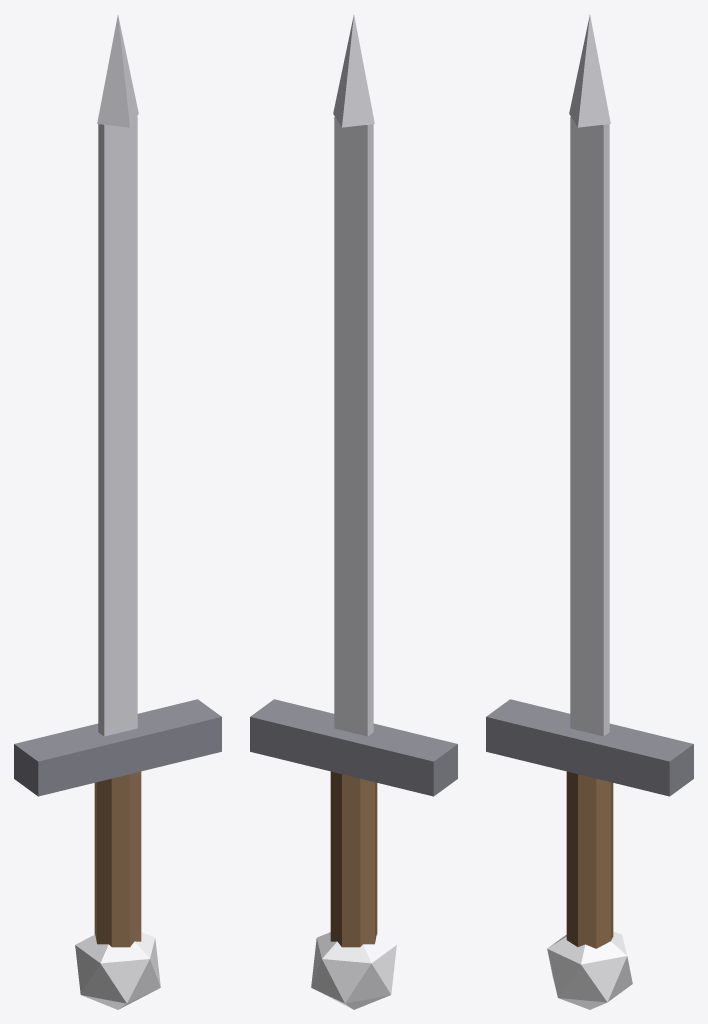
Rendered from wpn_long_sword.glb.
3 views of the same model, side by side, from view 1: azimuth 30°, elevation 25°; view 2: azimuth 150°, elevation 25°; view 3: azimuth 330°, elevation 25° (orthographic).
Parts seen in each view (by area): view 1: Weapon_LongSword; view 2: Weapon_LongSword; view 3: Weapon_LongSword.
Boxes of the visible parts, x1,y1,x2,y2 form: Weapon_LongSword: [14, 15, 221, 1009]; Weapon_LongSword: [250, 15, 457, 1009]; Weapon_LongSword: [486, 15, 693, 1009].
Size of the model in its own units: 0.22 by 1.14 by 0.0851.
